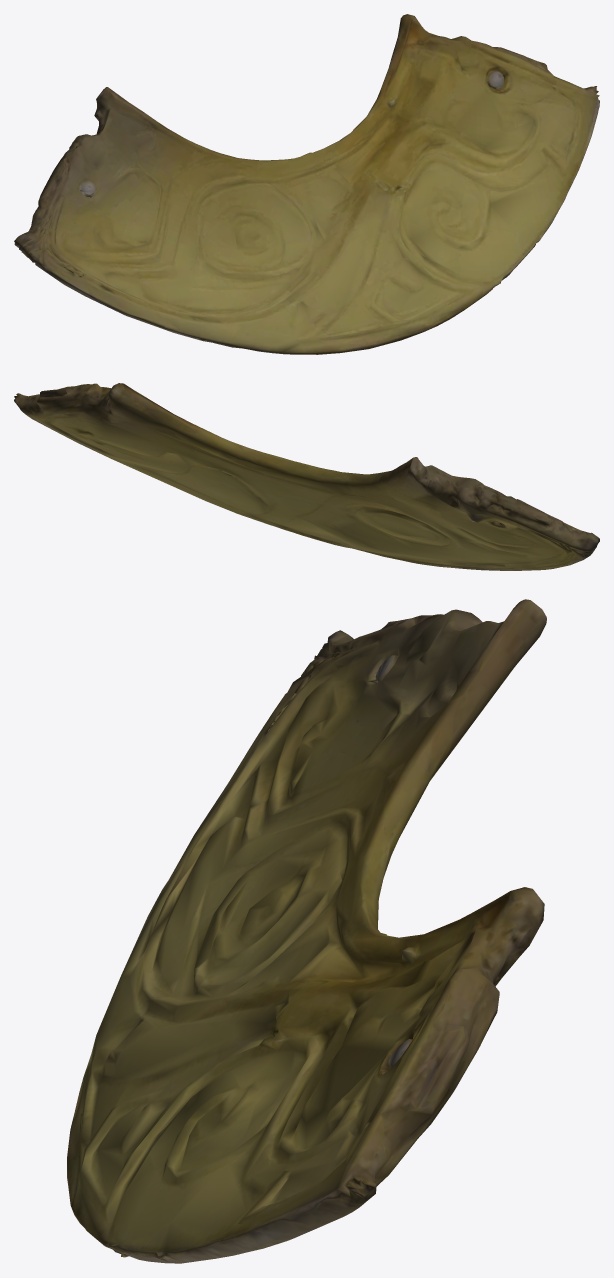
The model's file is phoenix-huang-overview.glb.
3 renders of one model, top to bottom at view 1: azimuth 30°, elevation 25°; view 2: azimuth 150°, elevation 25°; view 3: azimuth 270°, elevation 25°, orthographic. The views are drawn at different scales.
Parts seen in each view (by area): view 1: node_0; view 2: node_0; view 3: node_0.
Boxes of the visible parts, x1=… form: node_0: x1=14, y1=14, x2=599, y2=354; node_0: x1=14, y1=383, x2=599, y2=570; node_0: x1=67, y1=599, x2=546, y2=1263.
Bounding box in the file's own units: 1.19 × 0.4165 × 0.4271.
Materials: 1 (1 with a texture image).
